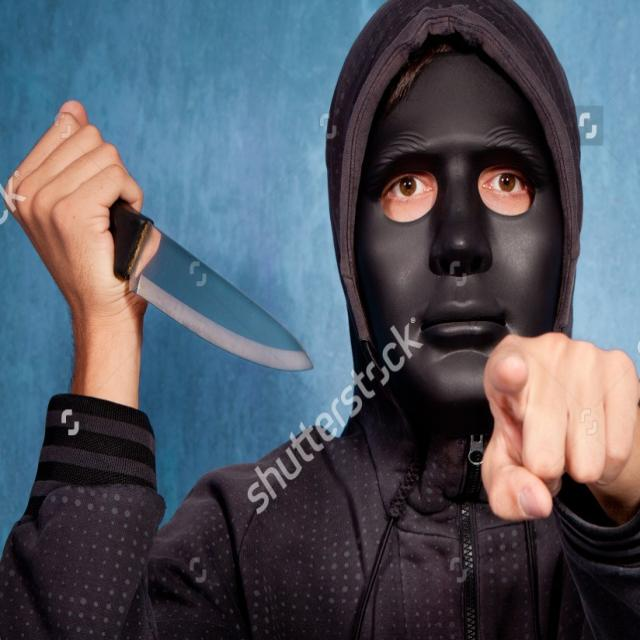knife: (112, 195, 316, 378)
